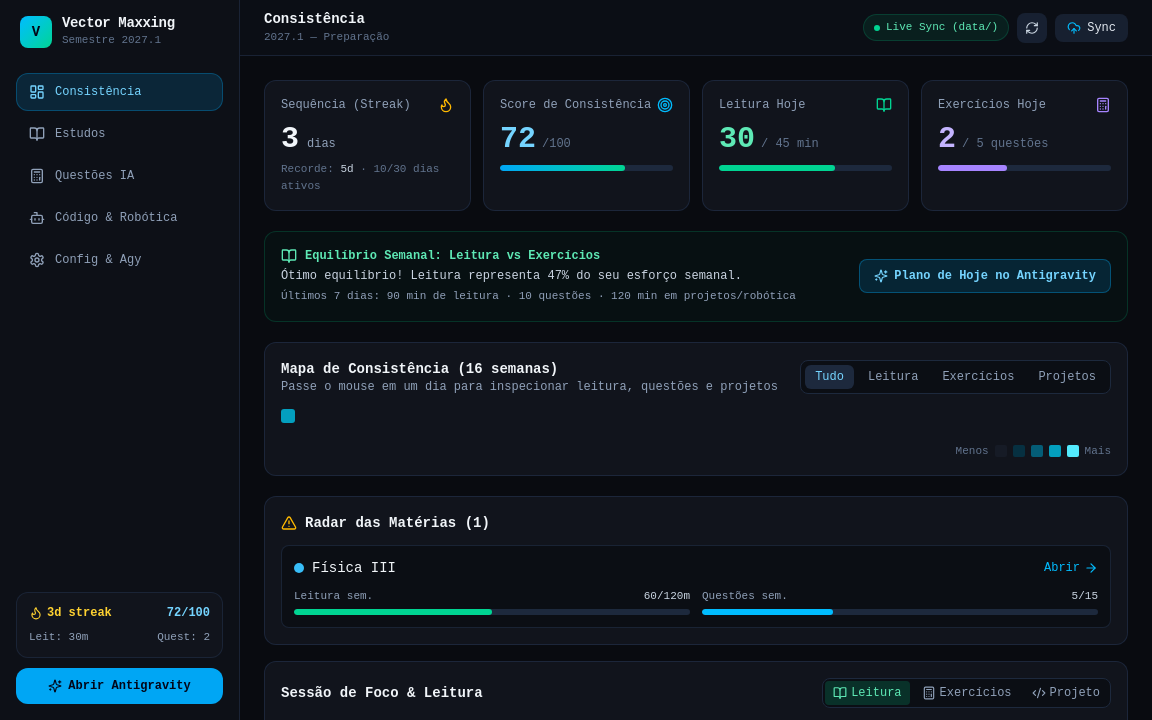
Test: App Shell Navigation › loads data and navigates across all 5 tabs cleanly
Check: the text "Vector Maxxing" is shown, box [62, 16, 175, 30]
Step 1. Click the button "Estudos" → x=120, y=134, box [16, 114, 223, 152]
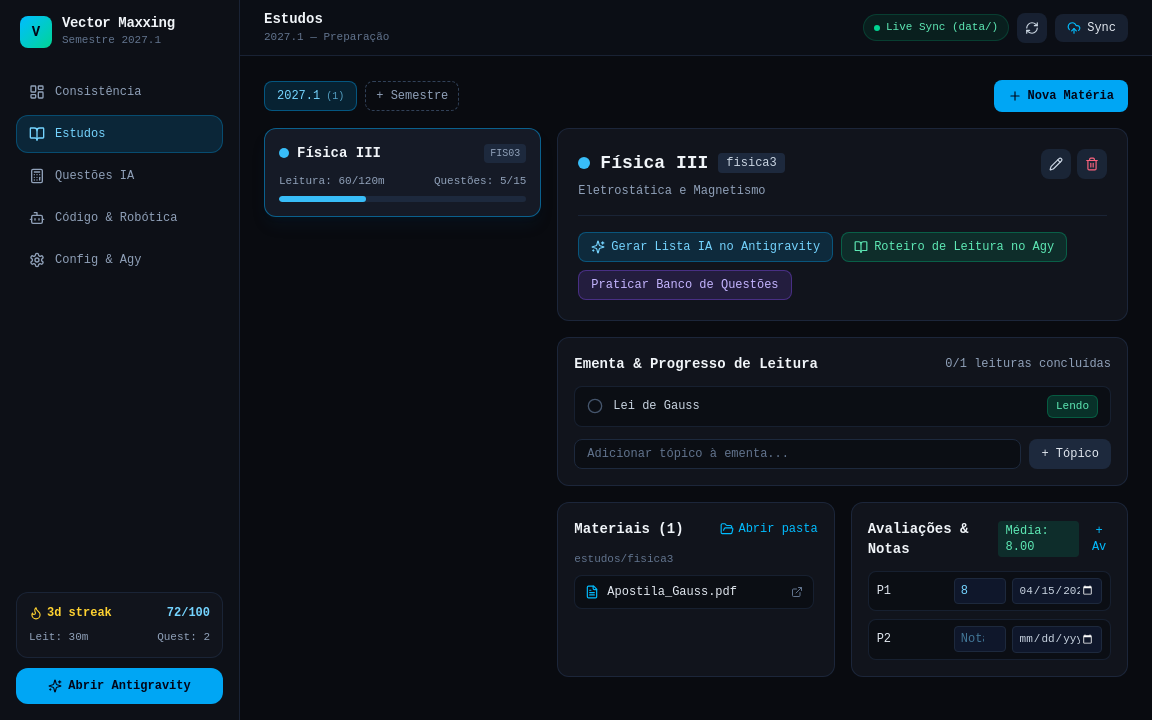
Check: the heading "Ementa & Progresso de Leitura" is shown, box [574, 354, 818, 374]
Step 2. Click the button "Questões IA" → x=120, y=176, box [16, 156, 223, 194]
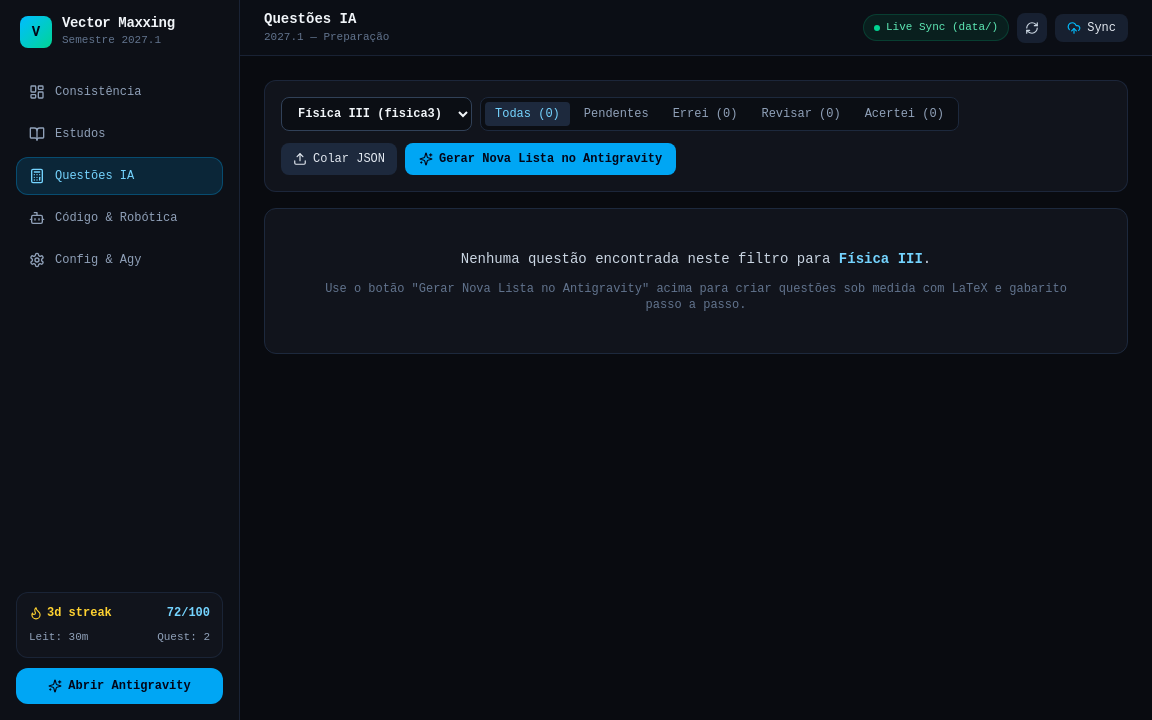
Check: the button "Gerar Nova Lista no Antigravity" is shown, box [405, 143, 676, 175]
Step 3. Click the button "Código & Robótica" → x=120, y=218, box [16, 198, 223, 236]
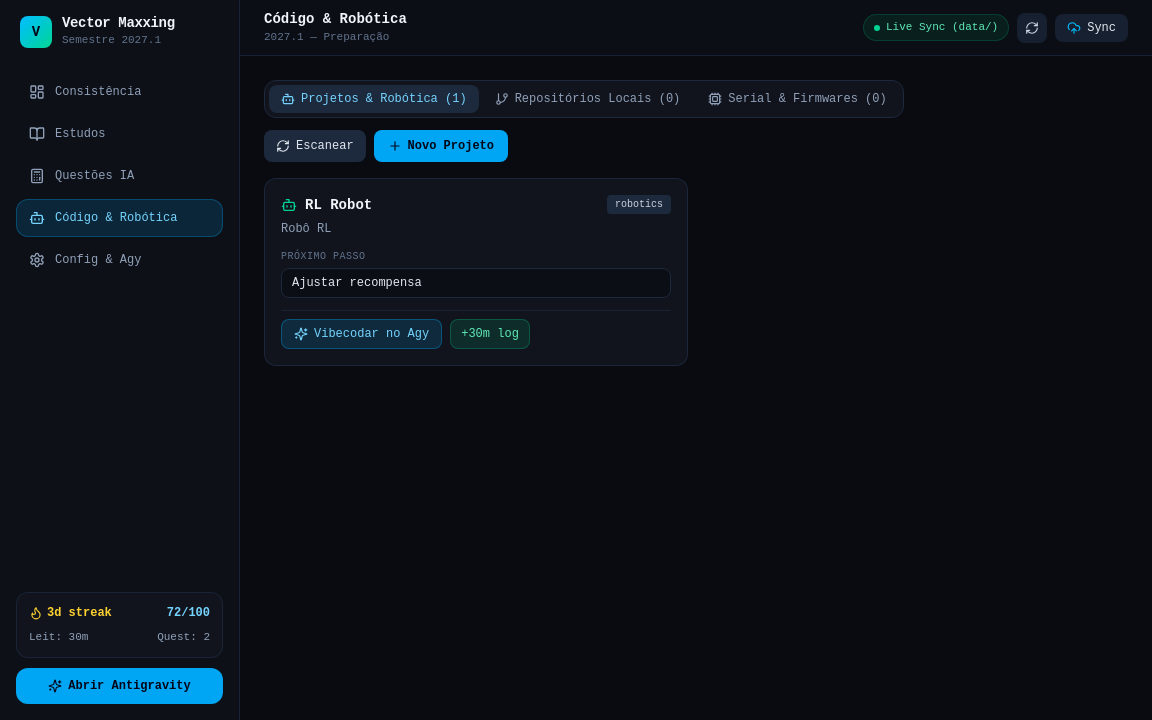
Check: the heading "RL Robot" is shown, box [305, 195, 372, 215]
Step 4. Click the button "Config & Agy" → x=120, y=260, box [16, 240, 223, 278]
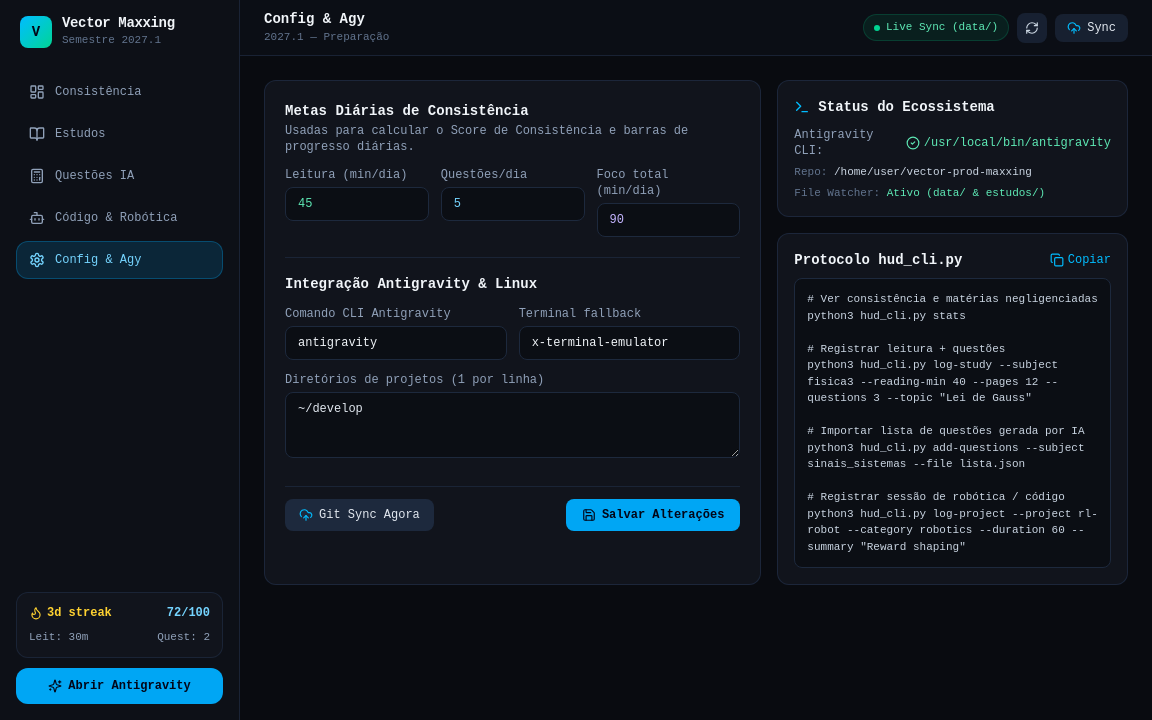
Check: the heading "Metas Diárias de Consistência" is shown, box [285, 103, 529, 119]
